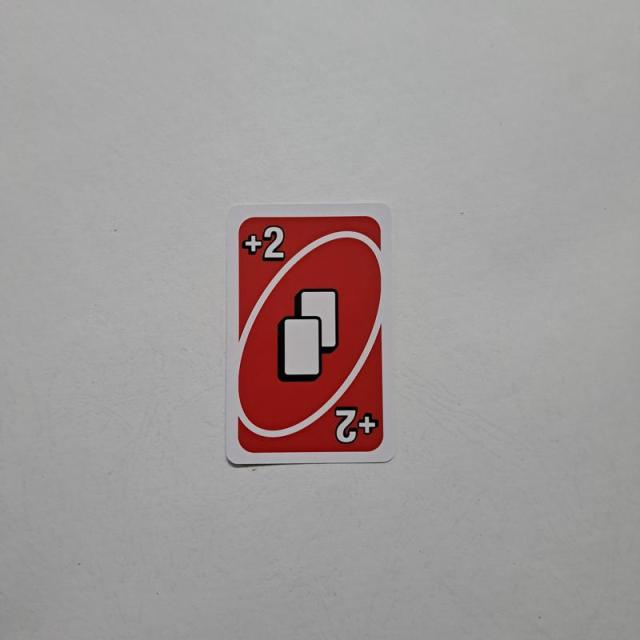Draw_Two: (238, 215, 290, 271)
Red_Card: (232, 207, 389, 459)
